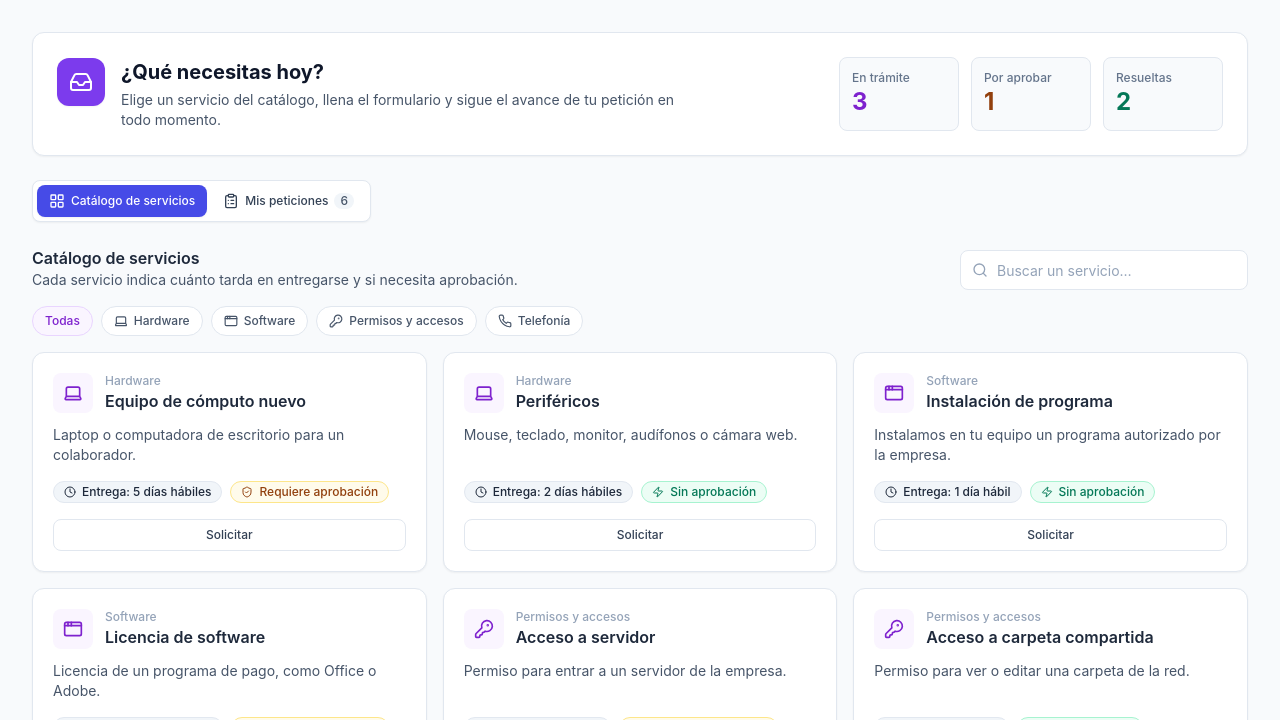
RequestsPage › no ofrece la encuesta en peticiones cerradas que ya se calificaron
Click the button "Mis peticiones 6": [289, 201] box x1=211 y1=185 x2=366 y2=217
(page scrolled)
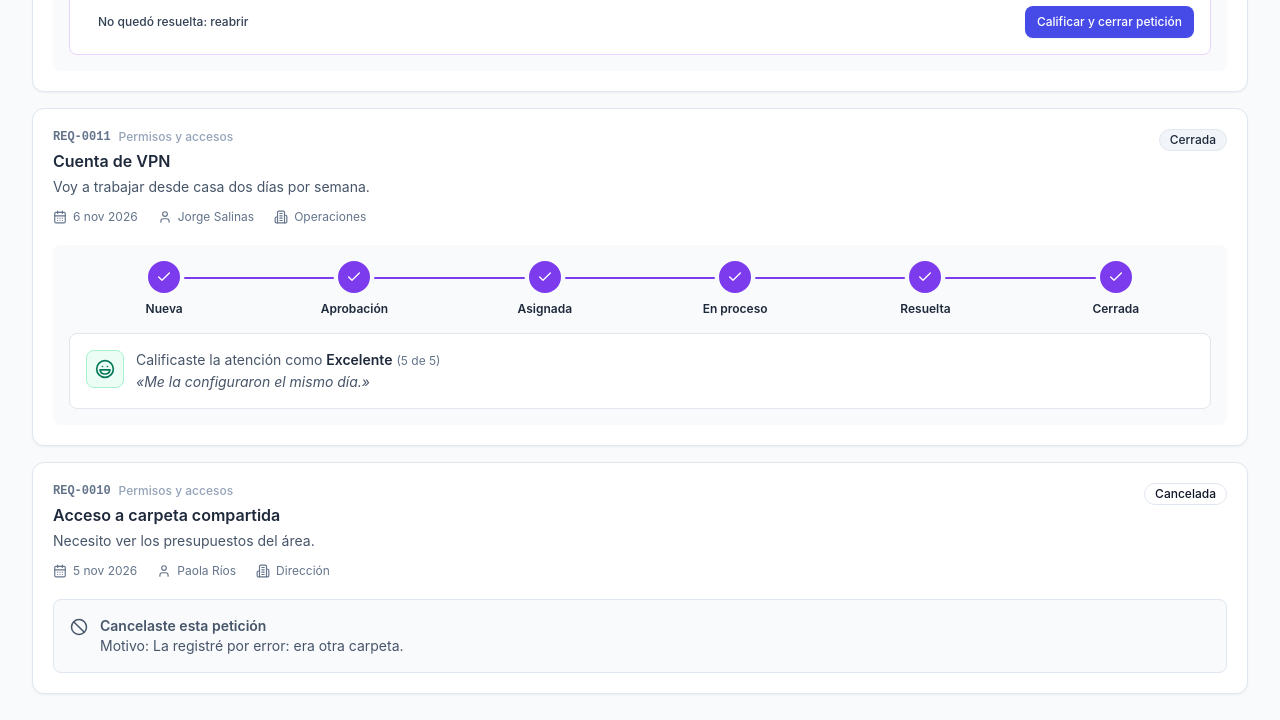
Expected: the text "Calificaste la atención como Excelente (5 de 5)" is shown, x1=136 y1=350 x2=440 y2=370
